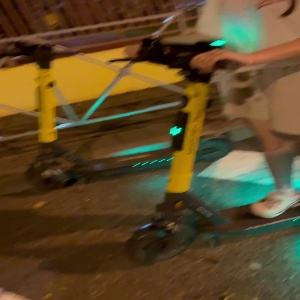human on a scooter: (105, 1, 300, 266)
